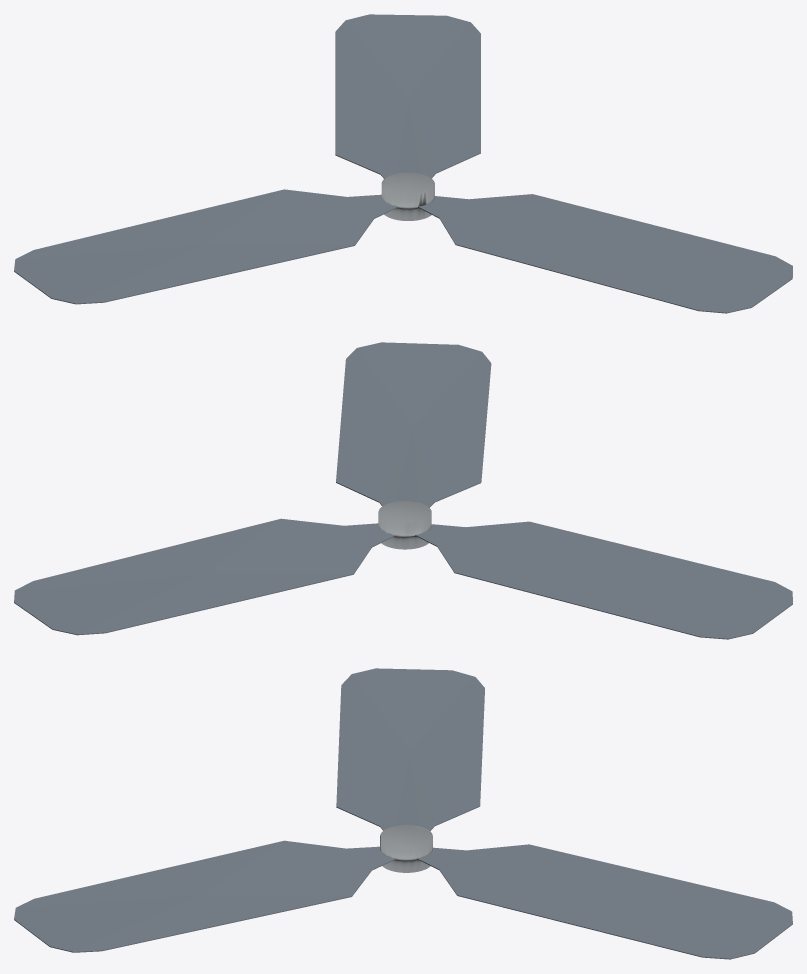
Rendered from moving_group.obj.
3 views of the same model, one above another, from view 1: azimuth 30°, elevation 25°; view 2: azimuth 150°, elevation 25°; view 3: azimuth 270°, elevation 25° (orthographic).
Visible parts, largest first — view 1: blade_left, blade_upper_right, blade_lower_right, propeller_hub; view 2: blade_lower_right, blade_left, blade_upper_right, propeller_hub; view 3: blade_upper_right, blade_lower_right, blade_left, propeller_hub.
Boxes of the visible parts, x1=… form: blade_left: x1=14, y1=189, x2=396, y2=304; blade_upper_right: x1=418, y1=194, x2=792, y2=313; blade_lower_right: x1=335, y1=14, x2=480, y2=178; propeller_hub: x1=381, y1=172, x2=434, y2=220; blade_lower_right: x1=14, y1=518, x2=394, y2=635; blade_left: x1=415, y1=521, x2=792, y2=639; blade_upper_right: x1=336, y1=342, x2=491, y2=507; propeller_hub: x1=378, y1=501, x2=431, y2=549; blade_upper_right: x1=14, y1=840, x2=394, y2=952; blade_lower_right: x1=417, y1=844, x2=792, y2=959; blade_left: x1=336, y1=668, x2=484, y2=831; propeller_hub: x1=380, y1=825, x2=432, y2=872.
Size of the model in its own units: 0.7506 by 0.031 by 0.8557.
